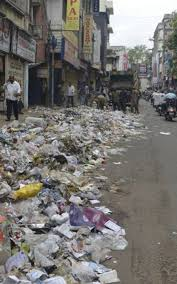garbage: (5, 122, 111, 282), (37, 105, 113, 191)
